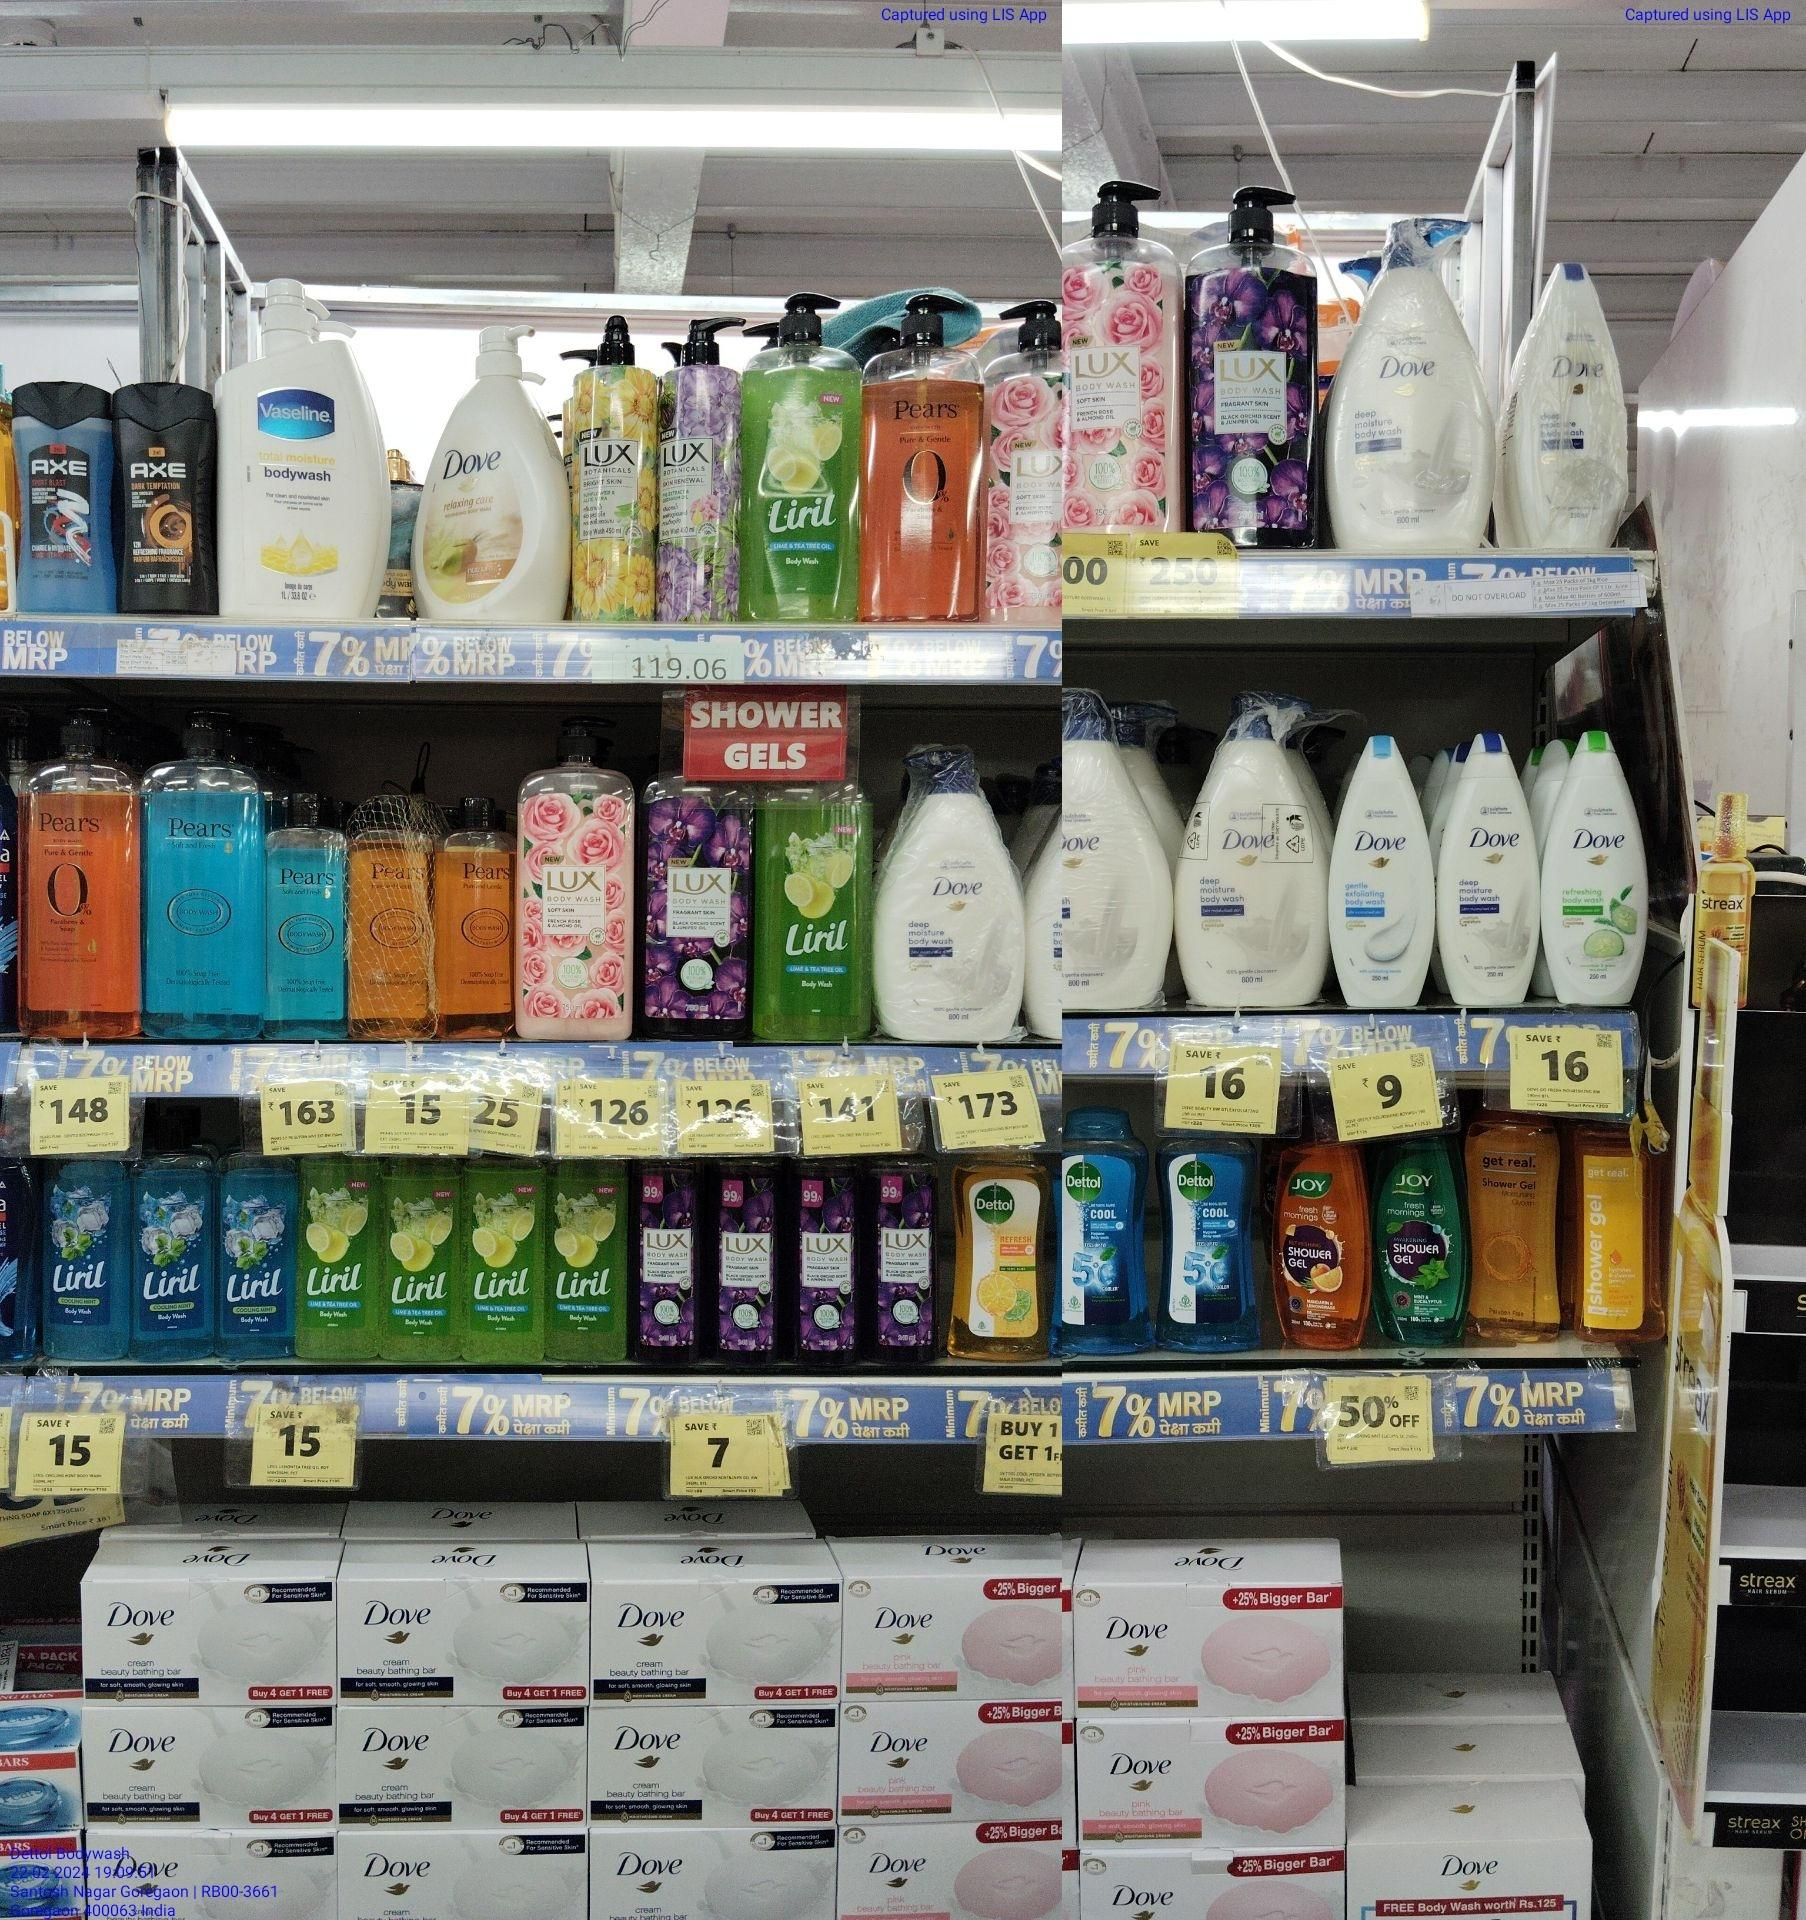Dettol_Bodywash_Cool: (1064, 1109, 1158, 1351), (1169, 1126, 1261, 1355)
Dettol_Bodywash_Refresh: (947, 1158, 1047, 1356)
Dove_Deep_Moisture_Body_Wash_250ML: (1441, 730, 1538, 998)
Dove_Gentle_Exfoliating_Body_Wash_250ML: (1329, 730, 1434, 1010)
Dove_Refreshing_Body_Wash_250ML: (1545, 730, 1650, 1000)
Get_Real_Shower_Gel_Moisturising_Glycerin_300ML: (1475, 1110, 1563, 1339)
Joy_Shower_Gel_Mandarin_and_Lemongrass_250ML: (1273, 1139, 1370, 1348)
Joy_Shower_Gel_Mint_and_Eucalyptus_250ML: (1377, 1141, 1470, 1334)
Liril_Cooling_Mint_Body_Wash_250ML: (41, 1170, 129, 1360), (136, 1156, 216, 1360), (222, 1153, 292, 1356)
Liril_Lime_and_Tea_Tree_Oil_Body_Wash_250ML: (552, 1159, 631, 1368), (384, 1148, 462, 1356), (299, 1149, 377, 1356), (470, 1154, 543, 1367)
Lux_Black_Orchid_Scent_and_Juniper_Oil_Body_Wash_245ML: (867, 1153, 932, 1365), (640, 1156, 706, 1358), (796, 1159, 859, 1365), (715, 1156, 776, 1365)
Pears_Pure_Glycerin_and_Mint_Extracts_Body_Wash_250ML: (263, 800, 346, 1041)
